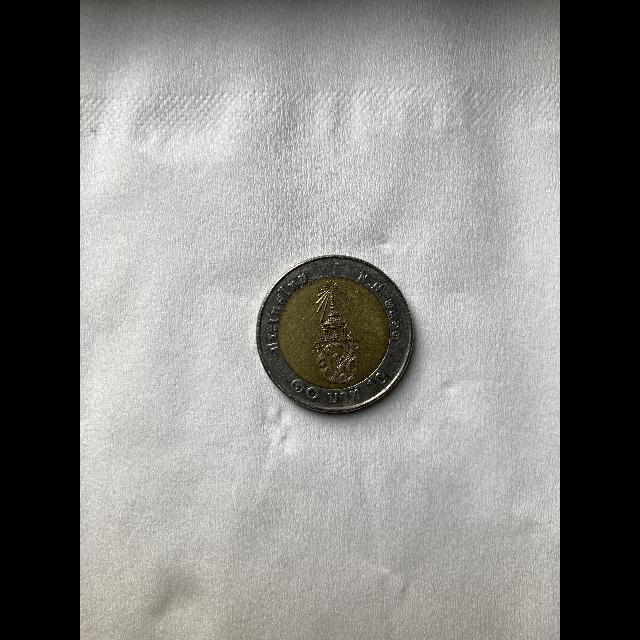10 Bath: (253, 251, 417, 421)
